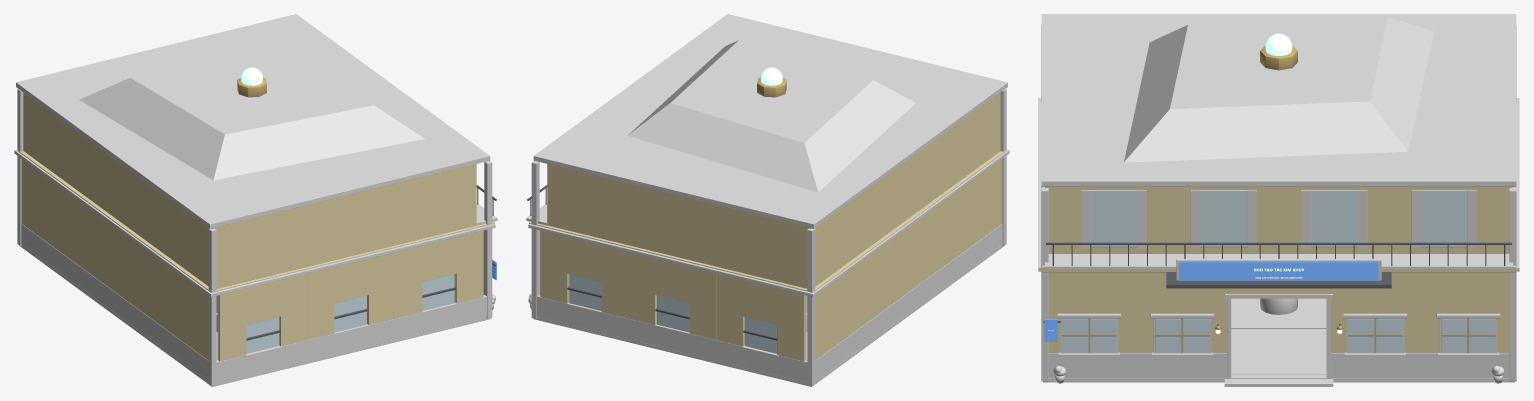
The model's file is SM_House_KimKhuy.fbx.
The picture shows the model from 3 angles, left to right: view 1: azimuth 30°, elevation 25°; view 2: azimuth 150°, elevation 25°; view 3: azimuth 270°, elevation 25°; orthographic projection. The views are drawn at different scales.
Visible parts, largest first — view 1: Roof_Cornice, F2_RoomBox, Roof_Mansard, Ext_BackUp, Ext_SideL_Low, Ext_BackLow, Ext_CorniceGround, Ext_SideL_PierL_0, Ext_SideL_PierL_1, Ext_SideL_PierR_0, Ext_SideL_PierR_1, Ext_SideL_PierR_2 (+12 smaller); view 2: Roof_Cornice, F2_RoomBox, Roof_Mansard, Ext_BackUp, Ext_SideR_Low, Ext_BackLow, Ext_CorniceGround, Ext_SideR_PierL_0, Ext_SideR_PierL_1, Ext_SideR_PierR_0, Ext_SideR_PierR_1, Ext_SideR_PierR_2 (+12 smaller); view 3: Roof_Cornice, Roof_Mansard, F2_RoomBox, Ext_FrontR_Up, Ext_FrontL_Up, F2_BalSlab, Marble_FloorSlab, Ext_FrontR_Low, Ext_FrontL_Low, MainSign_Board, F2_WinGlass_0, F2_WinGlass_1 (+29 smaller).
Boxes of the visible parts, bbox=[...] form: Roof_Cornice: bbox=[16, 14, 490, 228]; F2_RoomBox: bbox=[23, 92, 476, 288]; Roof_Mansard: bbox=[79, 48, 424, 180]; Ext_BackUp: bbox=[21, 159, 208, 360]; Ext_SideL_Low: bbox=[216, 295, 486, 382]; Ext_BackLow: bbox=[21, 224, 208, 380]; Ext_CorniceGround: bbox=[14, 149, 495, 296]; Ext_SideL_PierL_0: bbox=[218, 289, 246, 361]; Ext_SideL_PierL_1: bbox=[307, 267, 334, 339]; Ext_SideL_PierR_0: bbox=[279, 273, 307, 346]; Ext_SideL_PierR_1: bbox=[367, 252, 395, 324]; Ext_SideL_PierR_2: bbox=[455, 230, 483, 303]; Roof_Cornice: bbox=[533, 14, 1007, 228]; F2_RoomBox: bbox=[547, 92, 1000, 288]; Roof_Mansard: bbox=[627, 40, 915, 192]; Ext_BackUp: bbox=[815, 159, 1002, 360]; Ext_SideR_Low: bbox=[537, 295, 807, 382]; Ext_BackLow: bbox=[815, 224, 1002, 380]; Ext_CorniceGround: bbox=[528, 149, 1009, 296]; Ext_SideR_PierL_0: bbox=[777, 289, 805, 361]; Ext_SideR_PierL_1: bbox=[689, 267, 716, 339]; Ext_SideR_PierR_0: bbox=[716, 273, 744, 346]; Ext_SideR_PierR_1: bbox=[628, 252, 656, 324]; Ext_SideR_PierR_2: bbox=[540, 230, 568, 303]; Roof_Cornice: bbox=[1041, 14, 1516, 186]; Roof_Mansard: bbox=[1124, 17, 1433, 162]; F2_RoomBox: bbox=[1045, 187, 1512, 253]; Ext_FrontR_Up: bbox=[1330, 272, 1509, 352]; Ext_FrontL_Up: bbox=[1048, 272, 1227, 352]; F2_BalSlab: bbox=[1045, 254, 1512, 269]; Marble_FloorSlab: bbox=[1231, 329, 1326, 374]; Ext_FrontR_Low: bbox=[1331, 353, 1509, 377]; Ext_FrontL_Low: bbox=[1048, 353, 1226, 377]; MainSign_Board: bbox=[1179, 262, 1378, 280]; F2_WinGlass_0: bbox=[1090, 190, 1136, 247]; F2_WinGlass_1: bbox=[1200, 190, 1246, 247].
Bounding box in the file's own units: 16.34 × 11.05 × 18.34.
